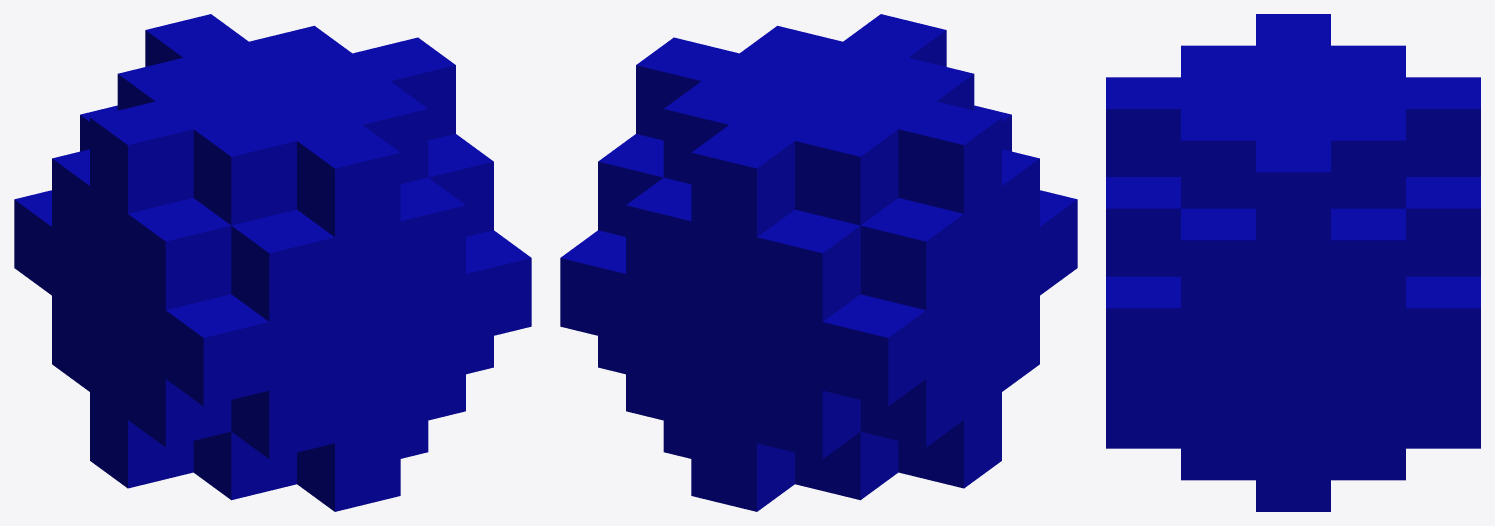
File: cristais-7.obj
3 renders of one model, left to right at view 1: azimuth 30°, elevation 25°; view 2: azimuth 150°, elevation 25°; view 3: azimuth 270°, elevation 25°, orthographic.
Size of the model in its own units: 0.5 by 0.5 by 0.5.
1 material, 1 textured.
